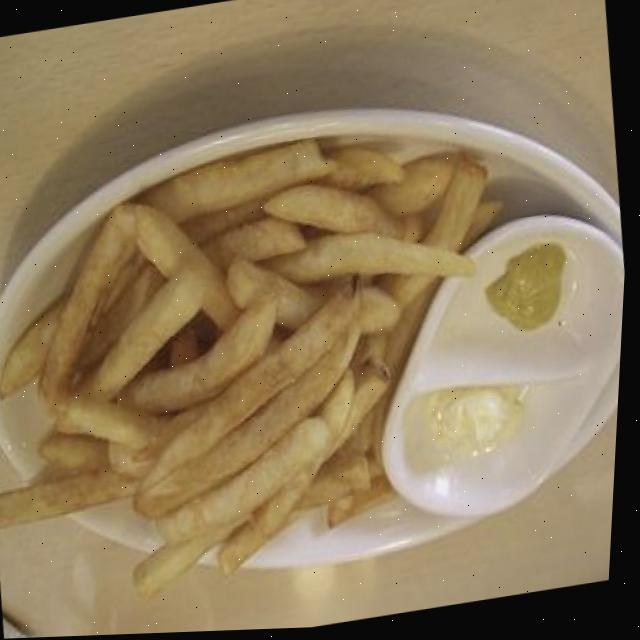炸货点心: (0, 113, 545, 636)
